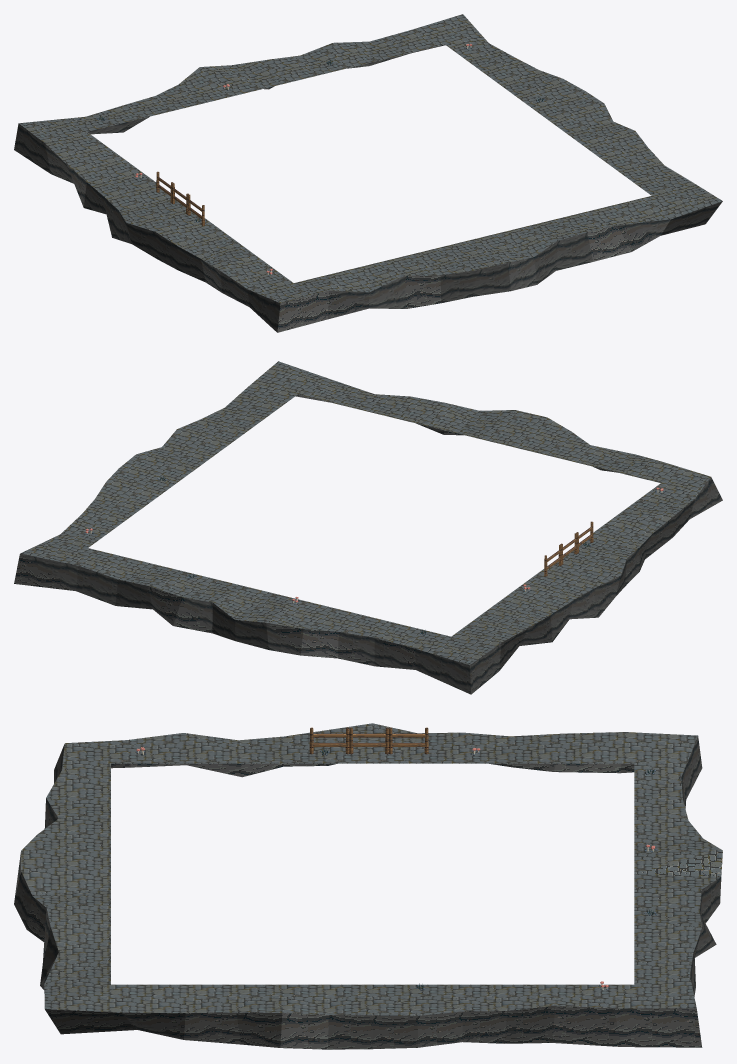
Rendered from entorno.glb.
3 renders of one model, top to bottom at view 1: azimuth 30°, elevation 25°; view 2: azimuth 150°, elevation 25°; view 3: azimuth 270°, elevation 25°, orthographic. The views are drawn at different scales.
Parts seen in each view (by area): view 1: pedreira_entorno; view 2: pedreira_entorno; view 3: pedreira_entorno.
Boxes of the visible parts, x1,y1,x2,y2 form: pedreira_entorno: (14,14,722,332); pedreira_entorno: (14,361,722,694); pedreira_entorno: (14,723,722,1049).
Bounding box in the file's own units: 16.31 × 1.69 × 16.52.
Materials: 7 (5 with a texture image).
